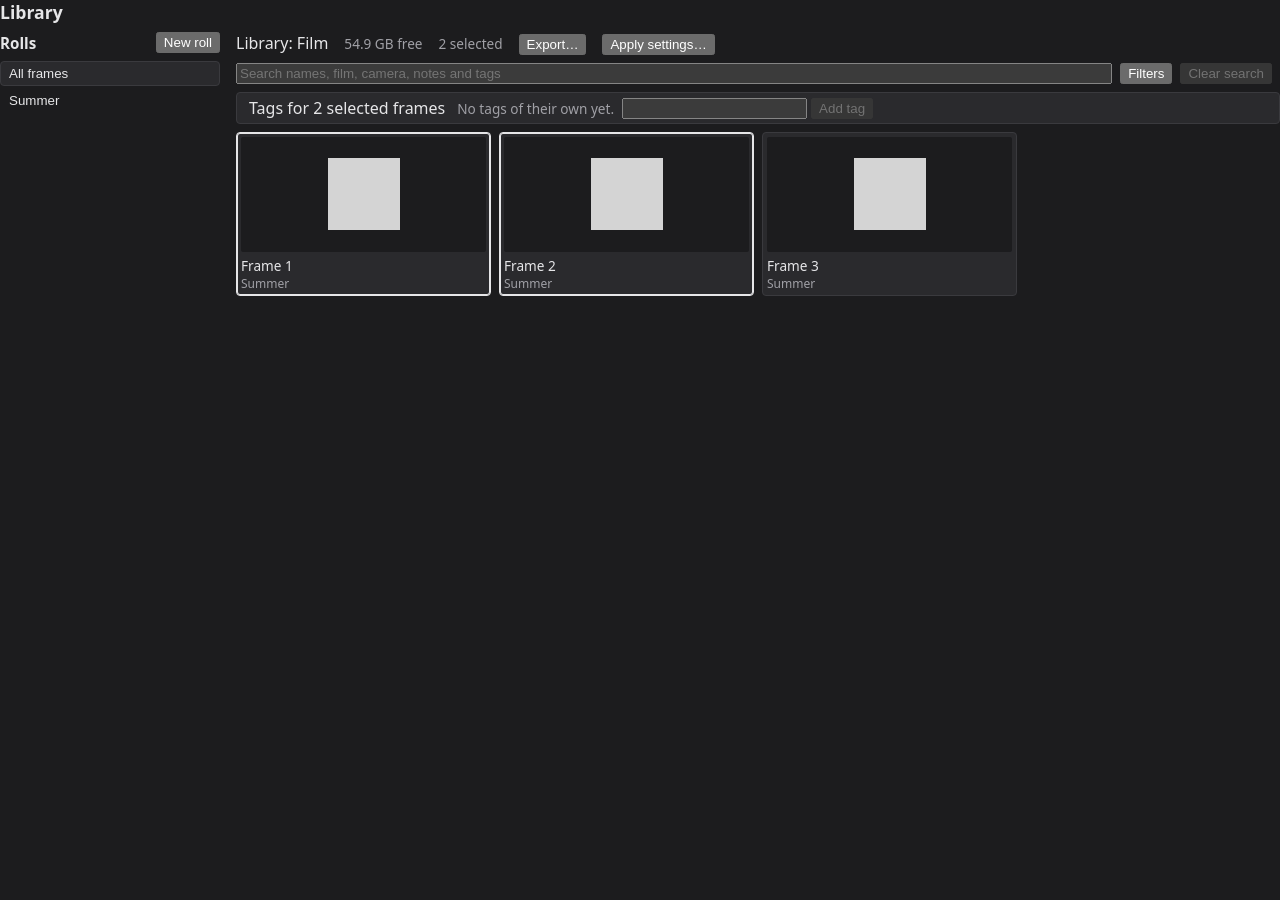
ExportDialog › running an export › lists the frames that could not be exported beside what was written
The width and height of the screenshot is (1280, 900).
Step 1. Click the button "Export…" → (553, 44), box x1=519 y1=34 x2=586 y2=55
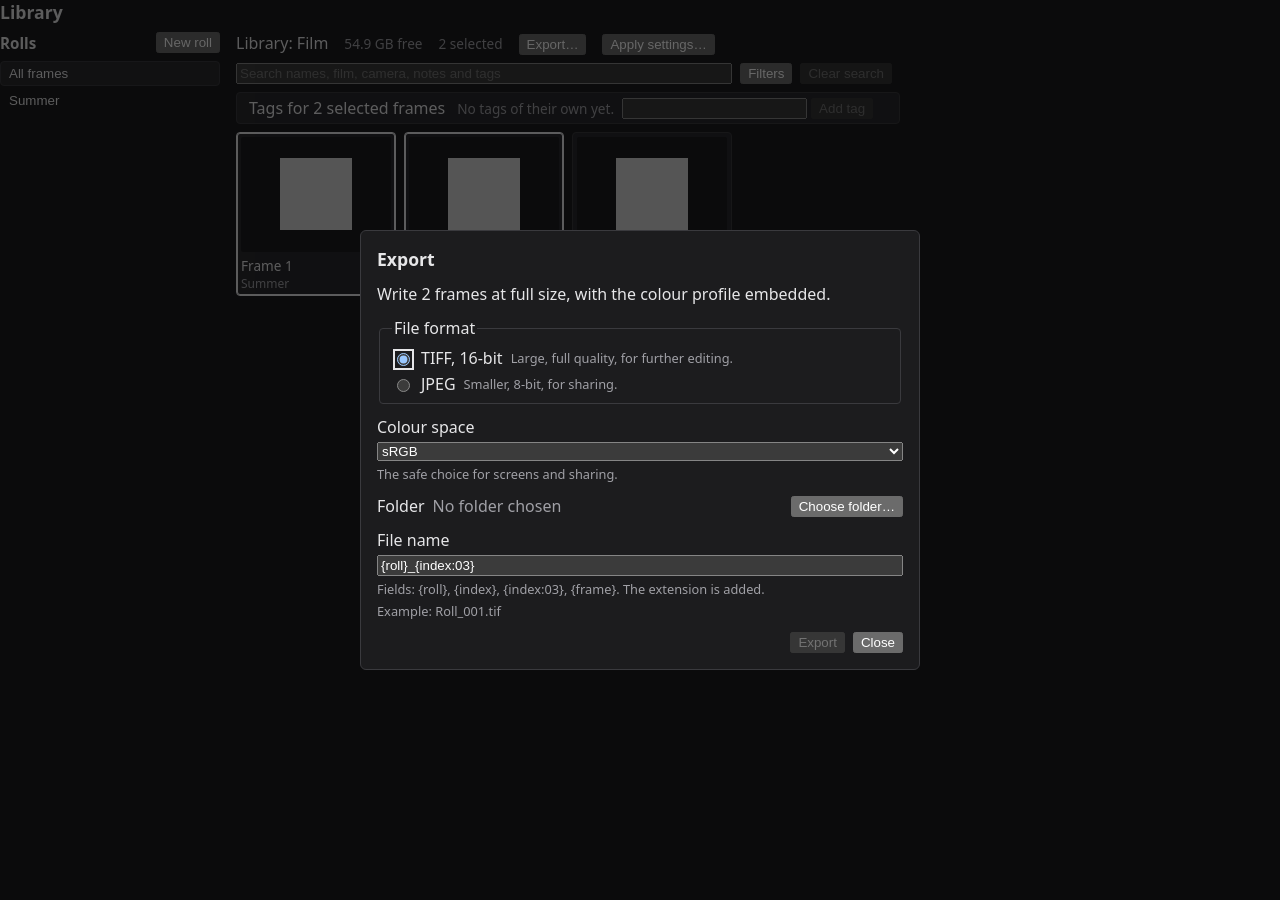
Now the dialog "Export" is shown, box x1=360 y1=230 x2=920 y2=670
Step 2. Click the button "Choose folder…" → (847, 506), box x1=791 y1=496 x2=903 y2=516
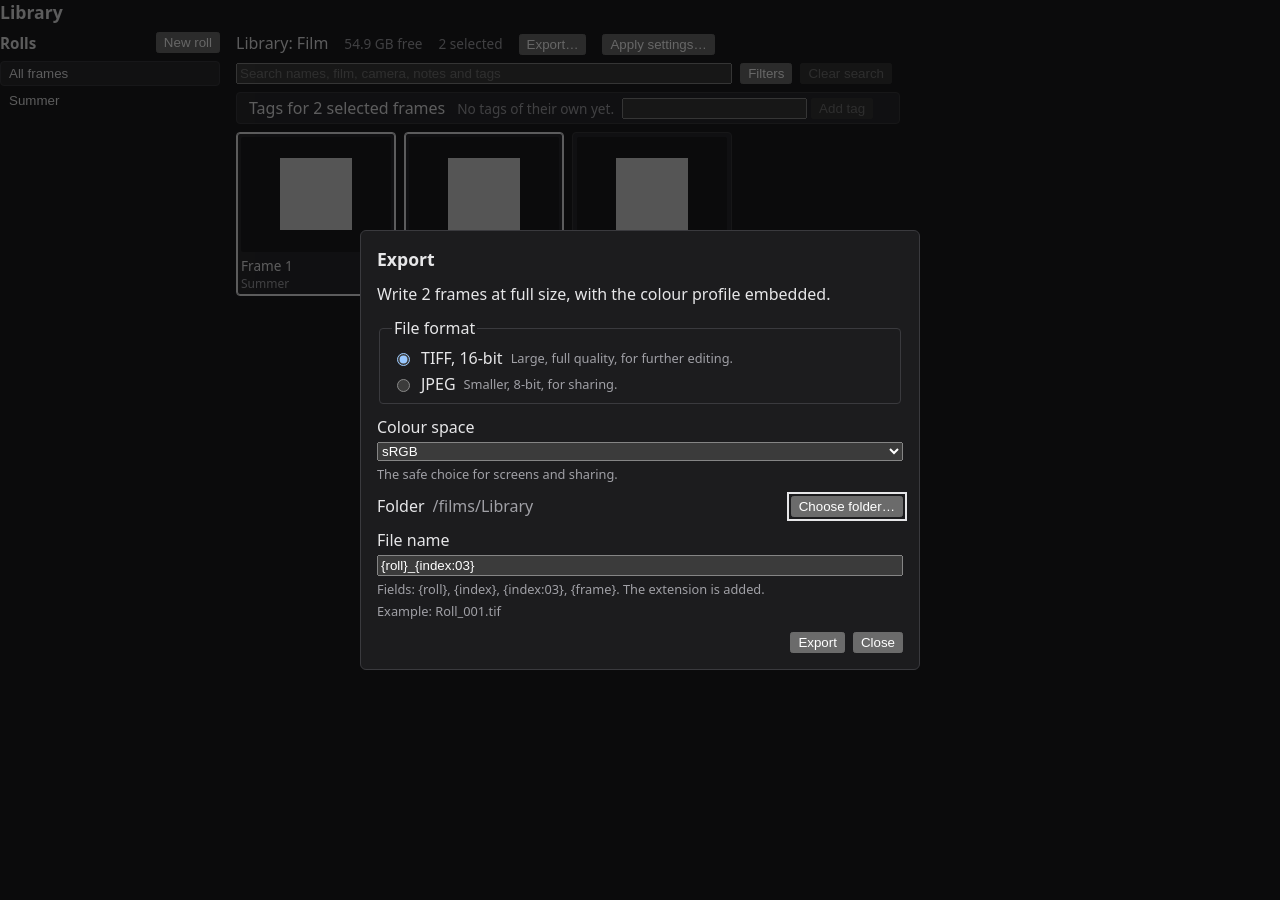
Now the text "/films/Library" is shown, box x1=433 y1=495 x2=533 y2=517
Step 3. Click the button "Export" → (818, 642), box x1=790 y1=632 x2=845 y2=653
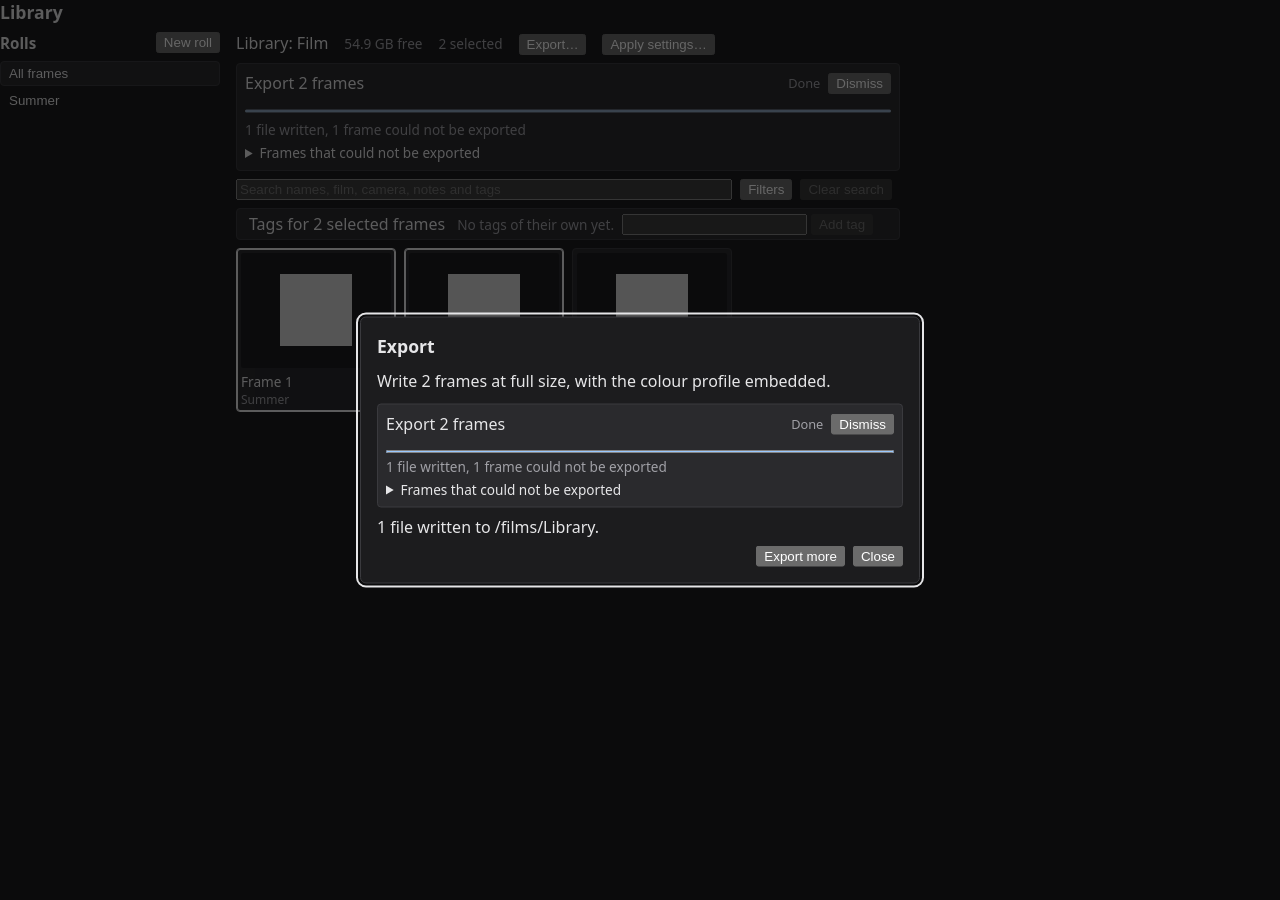
Now the progress indicator named "Export 2 frames" is shown, box x1=386 y1=449 x2=894 y2=455
Now the text "1 file written to /films/Library." is shown, box x1=377 y1=516 x2=599 y2=538
Now the text "1 file written, 1 frame could not be exported" is shown, box x1=386 y1=456 x2=667 y2=476
Step 4. Click the heading "Frames that could not be exported" → (511, 489), box x1=400 y1=480 x2=621 y2=498
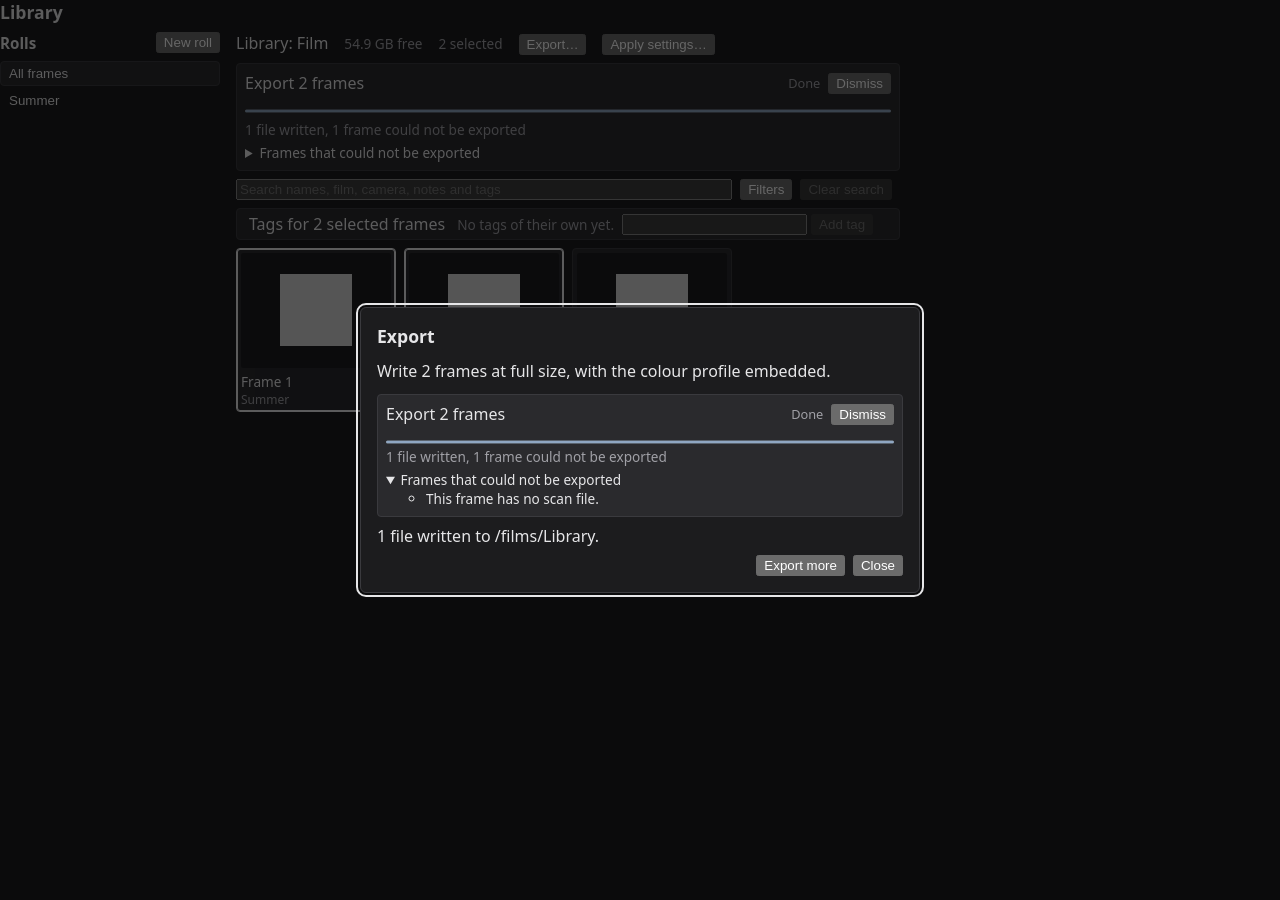
Now the list item "This frame has no scan file." is shown, box x1=426 y1=489 x2=599 y2=508
